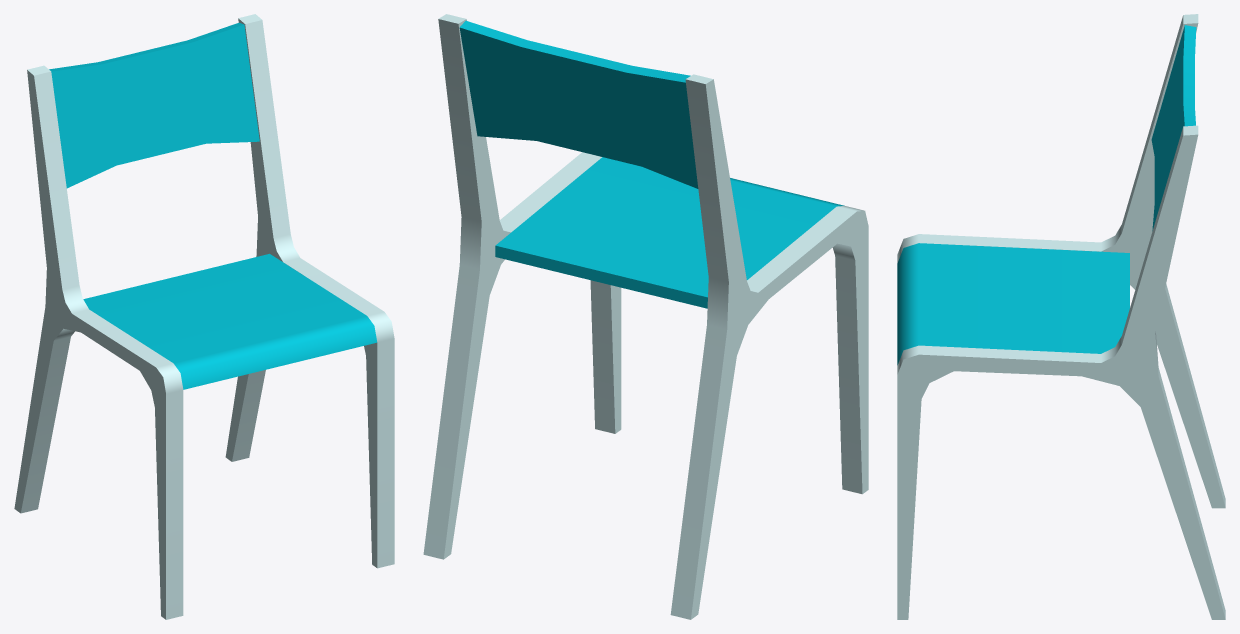
The model's file is kitchen_chair_038.glb.
3 renders of one model, left to right at view 1: azimuth 30°, elevation 25°; view 2: azimuth 150°, elevation 25°; view 3: azimuth 270°, elevation 25°, orthographic. The views are drawn at different scales.
Visible parts, largest first — view 1: kitchen_chair_038; view 2: kitchen_chair_038; view 3: kitchen_chair_038.
Boxes of the visible parts, x1,y1,x2,y2 form: kitchen_chair_038: [14, 14, 394, 619]; kitchen_chair_038: [423, 14, 868, 619]; kitchen_chair_038: [897, 14, 1225, 619].
Bounding box in the file's own units: 0.4758 × 0.8925 × 0.5475.
Materials: 1 (1 with a texture image).
